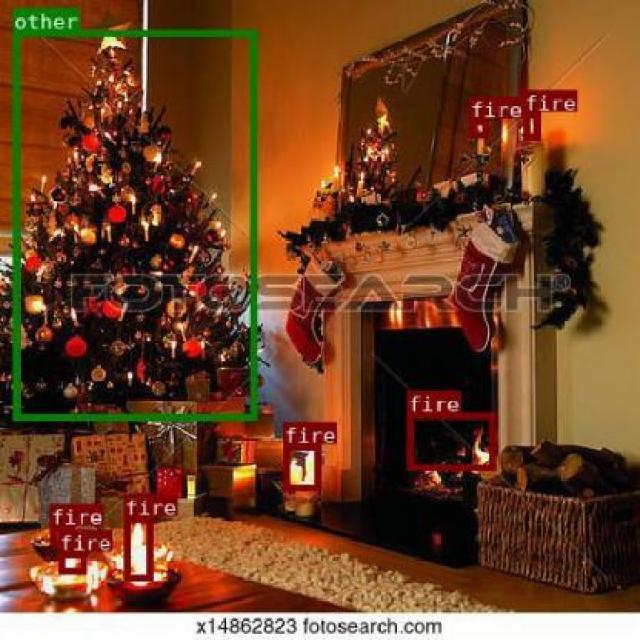fire: (406, 412, 494, 470), (122, 514, 152, 580), (282, 442, 321, 490), (58, 550, 86, 573), (48, 526, 74, 546), (522, 110, 538, 138), (468, 117, 487, 137)
other: (13, 28, 256, 420)
